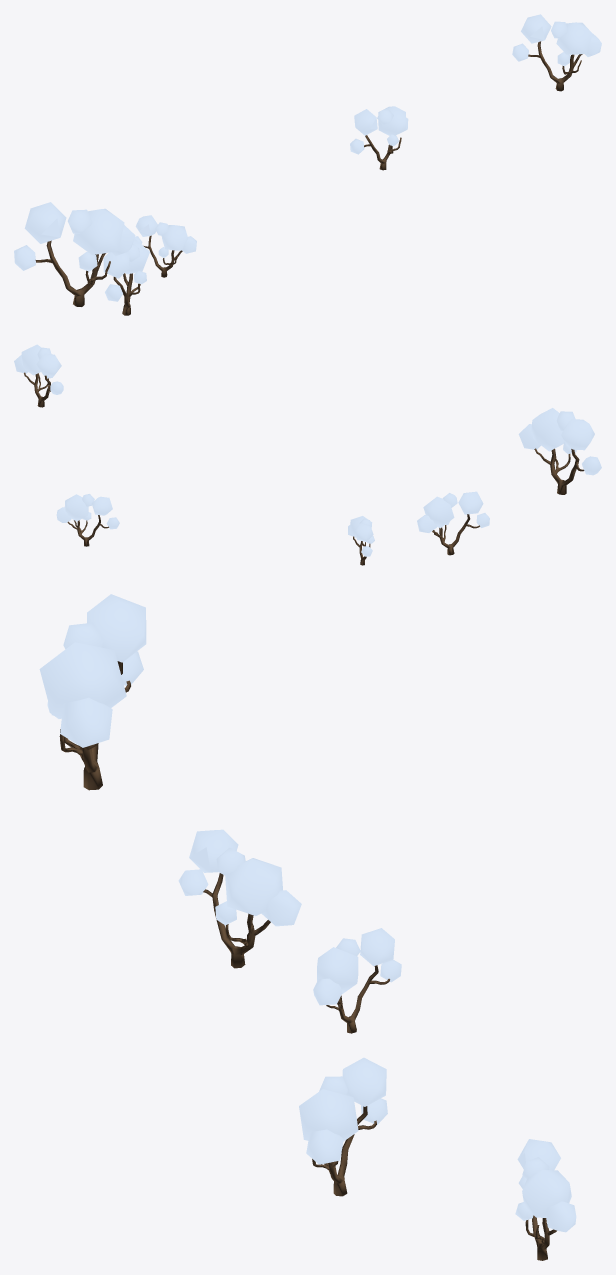
Rendered from atmosphere_tree_lights-compressed.glb.
3 renders of one model, top to bottom at view 1: azimuth 30°, elevation 25°; view 2: azimuth 150°, elevation 25°; view 3: azimuth 270°, elevation 25°, orthographic. The views are drawn at different scales.
Visible parts, largest first — view 1: TreeLights.003, TreeLights.006, TreeLights.005, TreeLights.001, TreeLights.002; view 2: TreeLights.003, TreeLights.005, TreeLights.006, TreeLights.001, TreeLights.002; view 3: TreeLights.003, TreeLights.005, TreeLights.006, TreeLights.001, TreeLights.002.
Boxes of the visible parts, left/top/right/bottom form: TreeLights.003: left=14, top=202, right=135, bottom=306; TreeLights.006: left=512, top=14, right=601, bottom=91; TreeLights.005: left=103, top=238, right=149, bottom=315; TreeLights.001: left=350, top=106, right=408, bottom=170; TreeLights.002: left=134, top=215, right=196, bottom=277; TreeLights.003: left=518, top=408, right=601, bottom=494; TreeLights.005: left=417, top=491, right=489, bottom=555; TreeLights.006: left=14, top=344, right=63, bottom=407; TreeLights.001: left=56, top=494, right=119, bottom=546; TreeLights.002: left=348, top=516, right=374, bottom=565; TreeLights.003: left=39, top=594, right=146, bottom=790; TreeLights.005: left=178, top=829, right=301, bottom=968; TreeLights.006: left=299, top=1057, right=387, bottom=1196; TreeLights.001: left=515, top=1139, right=576, bottom=1260; TreeLights.002: left=313, top=928, right=401, bottom=1033.
Bounding box in the file's own units: 7.27 × 1.85 × 3.16.
